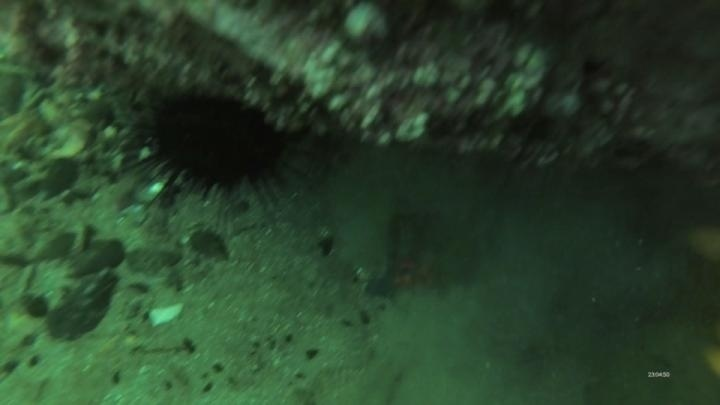echinus: (136, 82, 296, 206)
